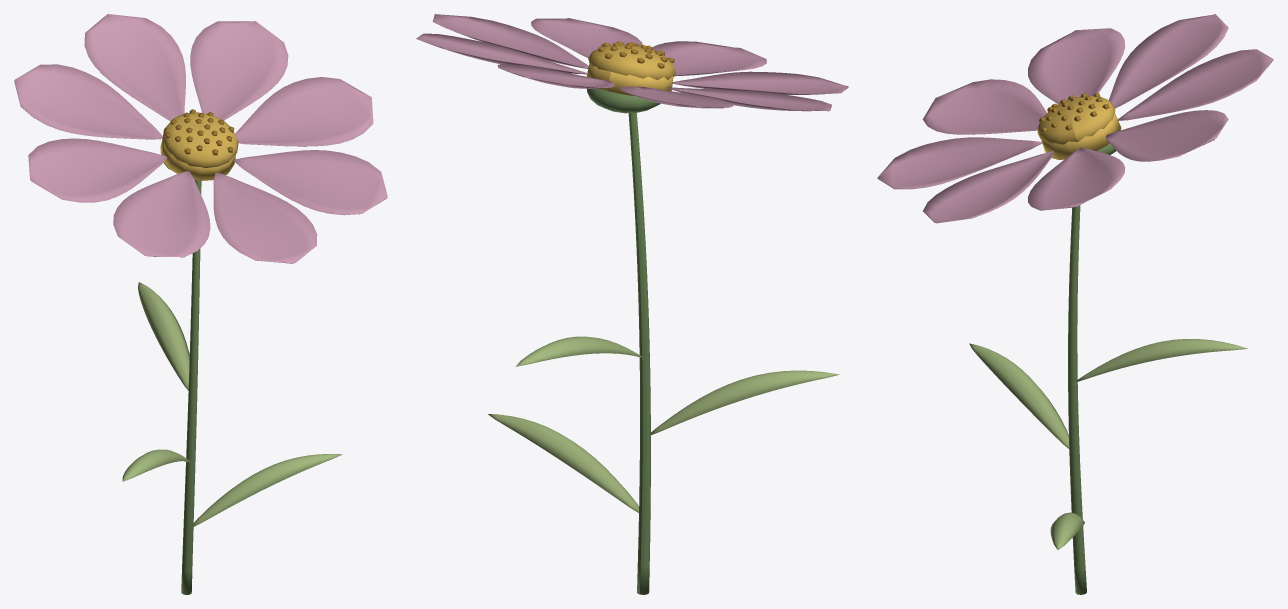
Rendered from cosmos-fine-v2.glb.
3 views of the same model, side by side, from view 1: azimuth 30°, elevation 25°; view 2: azimuth 150°, elevation 25°; view 3: azimuth 270°, elevation 25° (orthographic). The views are drawn at different scales.
Parts seen in each view (by area): view 1: cosmos-fine-v2-petal, cosmos-fine-v2-leaf, cosmos-fine-v2-center, cosmos-fine-v2-stem, cosmos-fine-v2-pollen; view 2: cosmos-fine-v2-petal, cosmos-fine-v2-leaf, cosmos-fine-v2-stem, cosmos-fine-v2-center, cosmos-fine-v2-pollen; view 3: cosmos-fine-v2-petal, cosmos-fine-v2-leaf, cosmos-fine-v2-stem, cosmos-fine-v2-center, cosmos-fine-v2-pollen.
Part boxes in pixels (<box>): cosmos-fine-v2-petal: <box>14,14,387,263</box>; cosmos-fine-v2-leaf: <box>122,282,342,526</box>; cosmos-fine-v2-center: <box>160,112,238,180</box>; cosmos-fine-v2-stem: <box>163,162,201,594</box>; cosmos-fine-v2-pollen: <box>165,109,234,155</box>; cosmos-fine-v2-petal: <box>416,14,848,111</box>; cosmos-fine-v2-leaf: <box>488,336,839,512</box>; cosmos-fine-v2-stem: <box>587,88,660,594</box>; cosmos-fine-v2-center: <box>586,44,675,95</box>; cosmos-fine-v2-pollen: <box>598,41,674,68</box>; cosmos-fine-v2-petal: <box>877,14,1273,223</box>; cosmos-fine-v2-leaf: <box>969,339,1247,549</box>; cosmos-fine-v2-stem: <box>1068,143,1116,594</box>; cosmos-fine-v2-center: <box>1037,96,1121,159</box>; cosmos-fine-v2-pollen: <box>1039,93,1109,132</box>.
Bounding box in the file's own units: 1.22 × 1.74 × 1.16.
